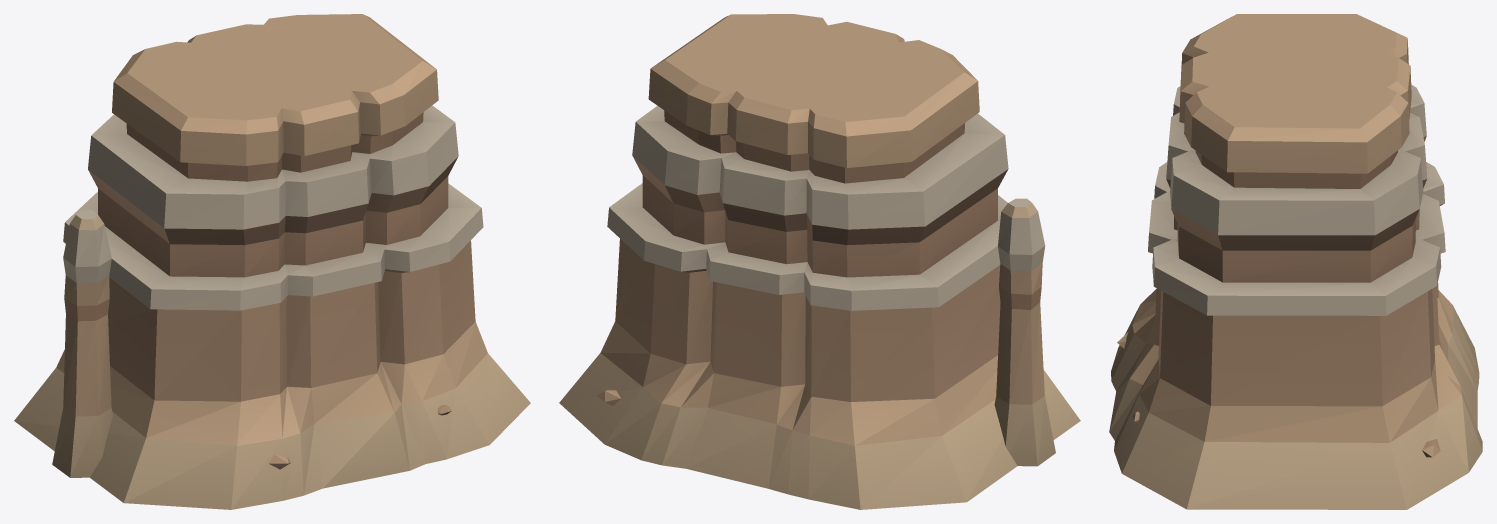
File: mesa.lod1.glb
3 views of the same model, side by side, from view 1: azimuth 30°, elevation 25°; view 2: azimuth 150°, elevation 25°; view 3: azimuth 270°, elevation 25° (orthographic).
Size of the model in its own units: 30.82 by 24 by 23.77.
